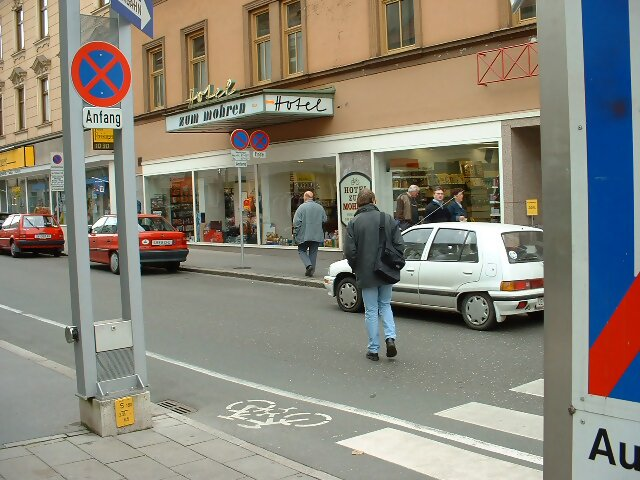person: (336, 184, 411, 367), (285, 184, 332, 279), (422, 184, 454, 225), (393, 179, 423, 216), (448, 185, 474, 220)
